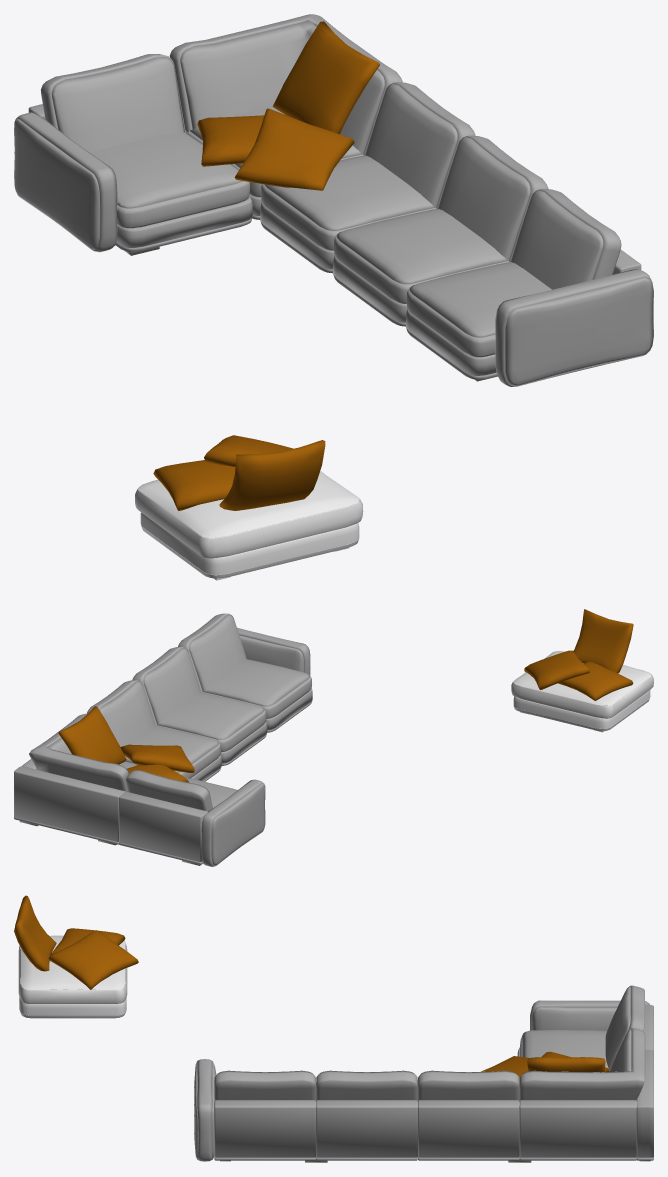
The model's file is apartament_sofa.fbx.
The picture shows the model from 3 angles, top to bottom: view 1: azimuth 30°, elevation 25°; view 2: azimuth 150°, elevation 25°; view 3: azimuth 270°, elevation 25°; orthographic projection. The views are drawn at different scales.
Visible parts, largest first — view 1: sofa; view 2: sofa; view 3: sofa.
Part boxes in pixels (bbox=[...]): sofa: bbox=[14, 14, 653, 580]; sofa: bbox=[14, 609, 653, 866]; sofa: bbox=[14, 895, 653, 1162].
Bounding box in the file's own units: 367 × 78.96 × 504.
